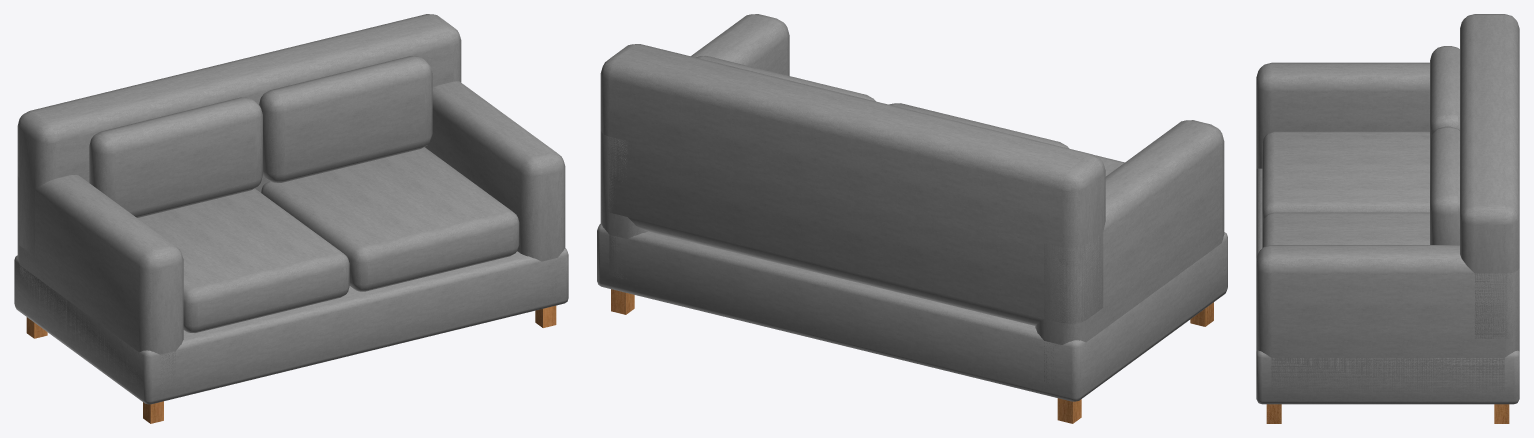
Rendered from lounge.sofa-2-seater.glb.
The picture shows the model from 3 angles, left to right: view 1: azimuth 30°, elevation 25°; view 2: azimuth 150°, elevation 25°; view 3: azimuth 270°, elevation 25°; orthographic projection. The views are drawn at different scales.
Parts seen in each view (by area): view 1: lounge.sofa-2-seater.001; view 2: lounge.sofa-2-seater.001; view 3: lounge.sofa-2-seater.001.
Part boxes in pixels (x1=…): lounge.sofa-2-seater.001: x1=14, y1=14, x2=568, y2=423; lounge.sofa-2-seater.001: x1=597, y1=14, x2=1227, y2=423; lounge.sofa-2-seater.001: x1=1256, y1=14, x2=1519, y2=423.
Bounding box in the file's own units: 1.6 × 0.8 × 0.88.
Materials: 2 (2 with a texture image).
